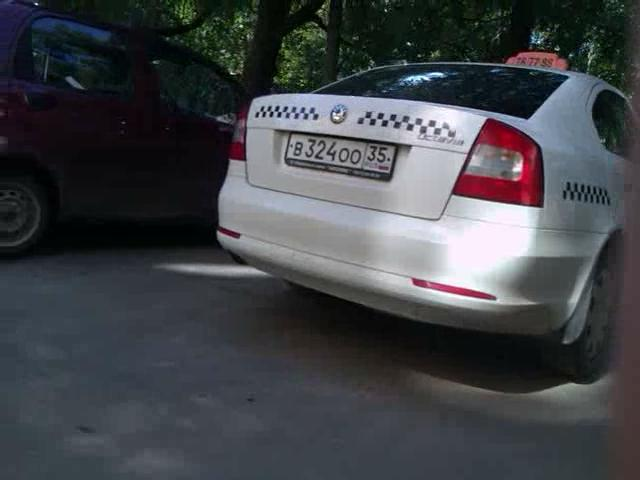car license plate: (286, 131, 395, 178)
